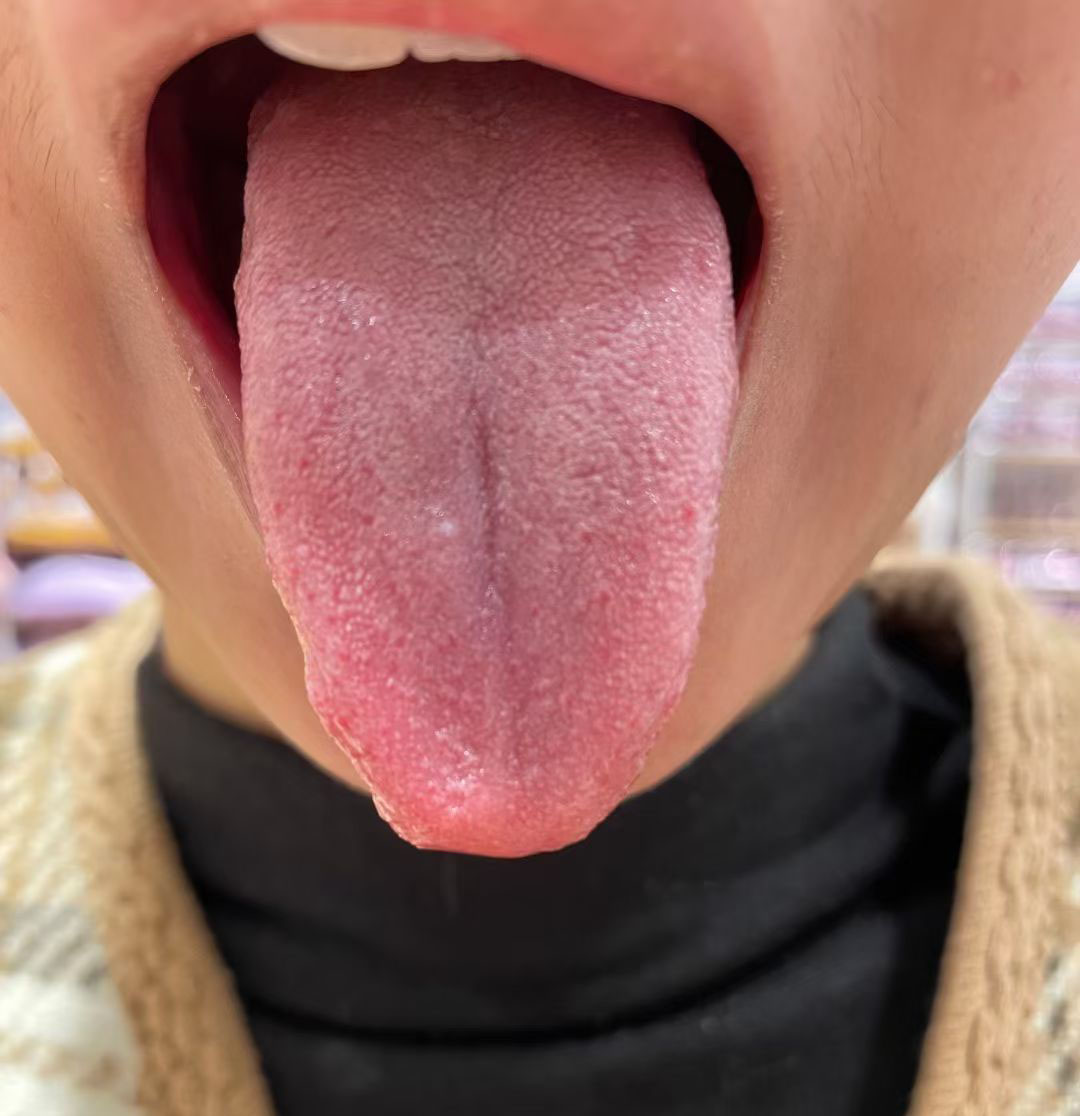baitaishe: (235, 63, 738, 857)
hongshe: (234, 63, 737, 857)
